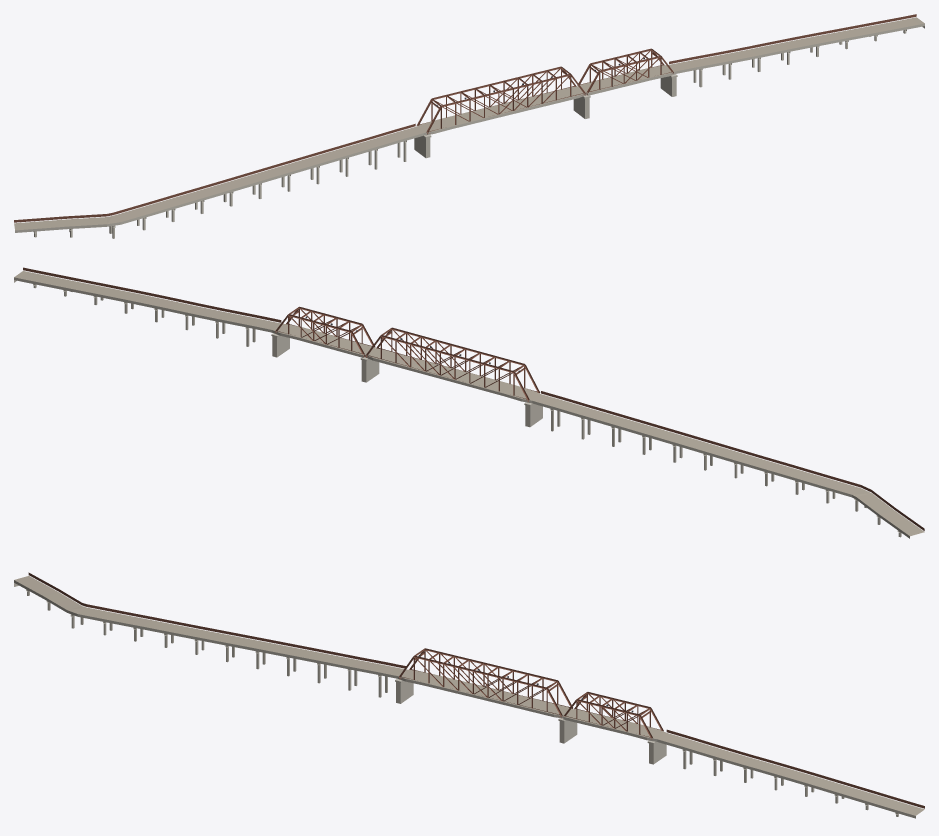
The model's file is sat-hays-street-bridge.glb.
3 views of the same model, one above another, from view 1: azimuth 30°, elevation 25°; view 2: azimuth 150°, elevation 25°; view 3: azimuth 330°, elevation 25° (orthographic). The views are drawn at different scales.
Visible parts, largest first — view 1: Hays Street Bridge; view 2: Hays Street Bridge; view 3: Hays Street Bridge.
Boxes of the visible parts, bbox=[...] form: Hays Street Bridge: bbox=[14, 14, 924, 238]; Hays Street Bridge: bbox=[14, 267, 924, 538]; Hays Street Bridge: bbox=[14, 572, 924, 818].
Bounding box in the file's own units: 396 × 24.33 × 27.83.
